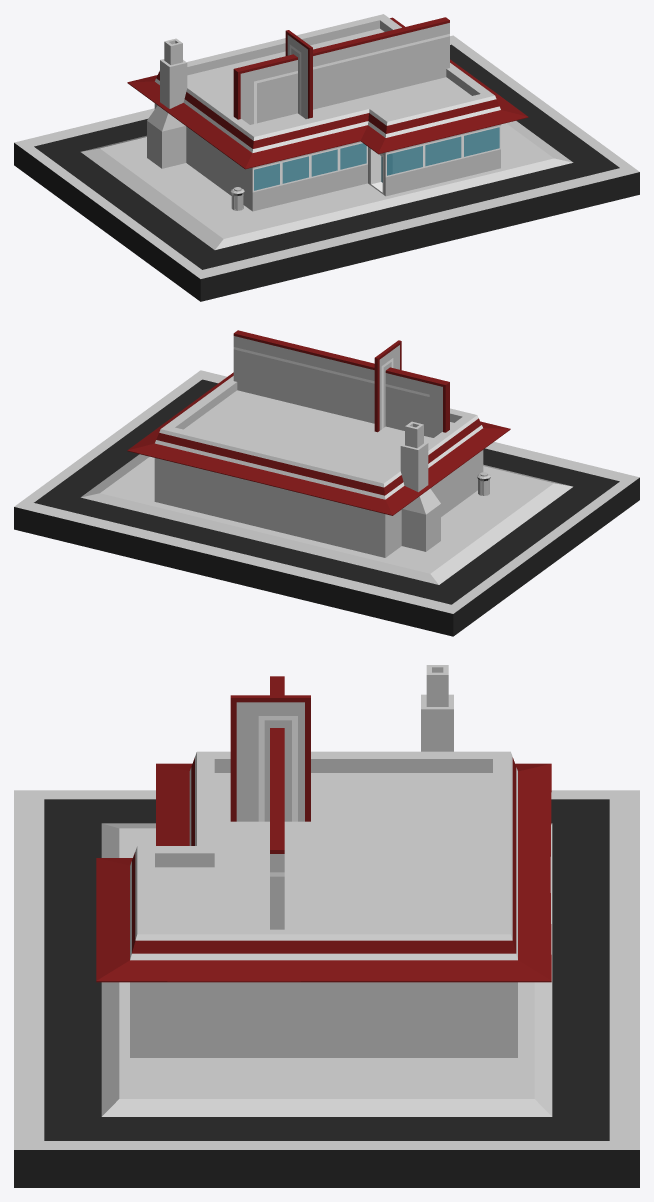
The model's file is restaurant.glb.
3 views of the same model, one above another, from view 1: azimuth 30°, elevation 25°; view 2: azimuth 150°, elevation 25°; view 3: azimuth 270°, elevation 25° (orthographic). The views are drawn at different scales.
Visible parts, largest first — view 1: Box001, Box002; view 2: Box001, Box002; view 3: Box001, Box002.
Part boxes in pixels (<box>): Box001: <box>14,35,639,301</box>; Box002: <box>127,14,528,211</box>; Box001: <box>14,370,639,636</box>; Box002: <box>127,330,510,557</box>; Box001: <box>14,790,639,1187</box>; Box002: <box>96,665,551,1057</box>.
Size of the model in its own units: 301 by 107 by 221.
